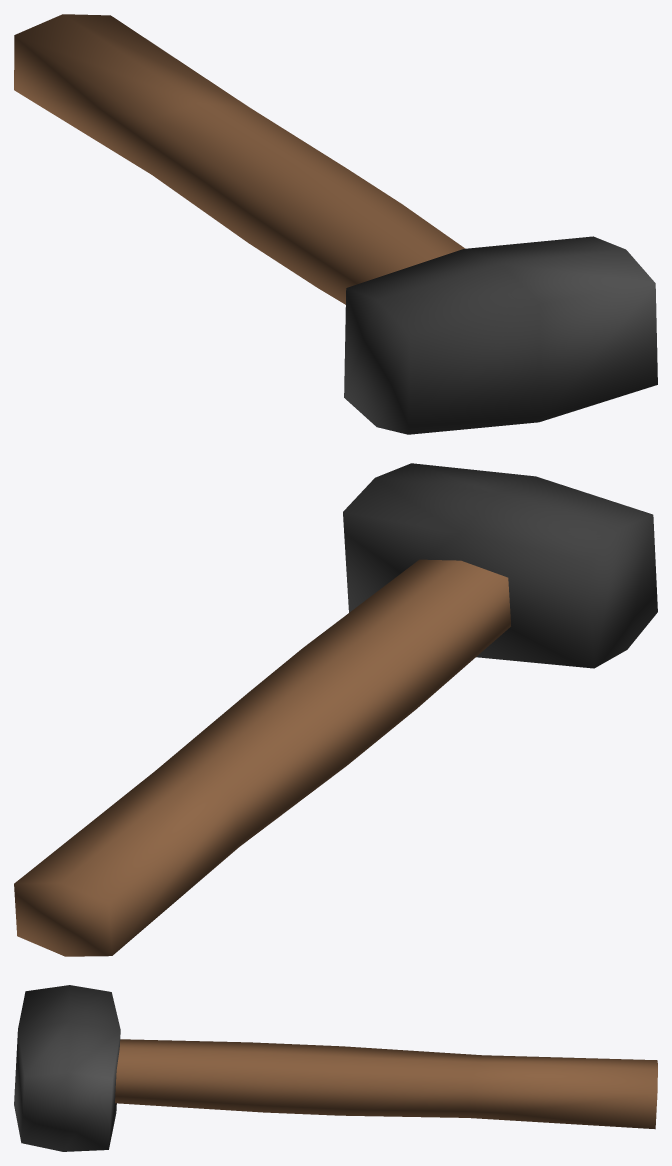
File: Marreta.fbx
3 views of the same model, one above another, from view 1: azimuth 30°, elevation 25°; view 2: azimuth 150°, elevation 25°; view 3: azimuth 270°, elevation 25° (orthographic). The views are drawn at different scales.
Parts seen in each view (by area): view 1: Martelo; view 2: Martelo; view 3: Martelo.
Part boxes in pixels (box(x1,y1,x2,y2)): Martelo: box(14, 14, 657, 434); Martelo: box(14, 463, 657, 956); Martelo: box(14, 985, 657, 1151).
Bounding box in the file's own units: 63.39 × 35.34 × 210.
